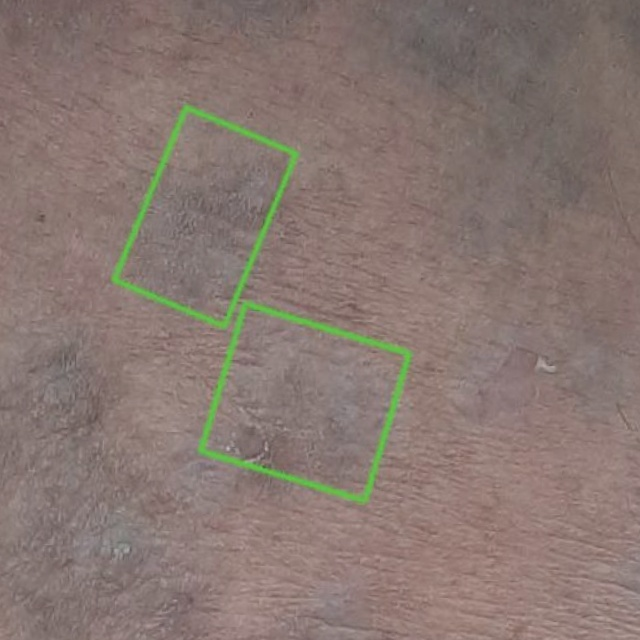Contact Dermatitis: (201, 304, 409, 500), (114, 108, 296, 326)
